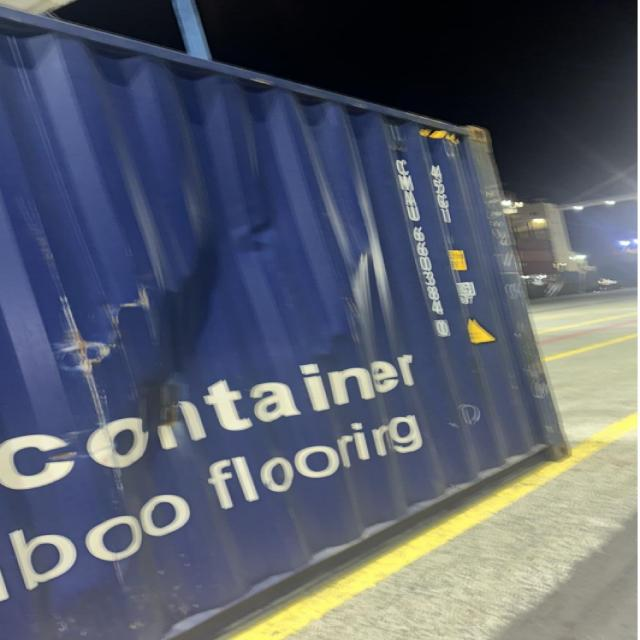dent: (50, 131, 478, 472)
